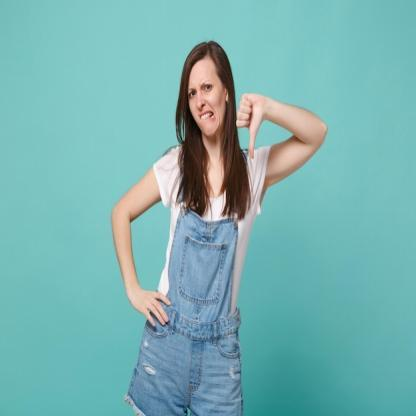thumb_down: (234, 90, 268, 159)
